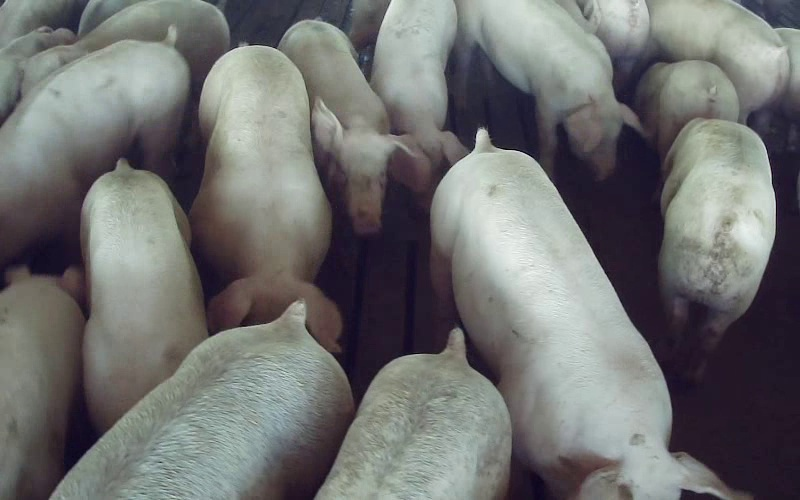pig: (432, 131, 741, 499), (51, 301, 353, 499), (191, 46, 340, 351), (0, 26, 189, 266), (81, 159, 207, 431), (315, 328, 511, 499), (454, 0, 639, 178), (278, 20, 430, 235), (659, 118, 775, 380), (0, 267, 84, 499), (644, 0, 788, 121), (371, 0, 467, 167), (635, 60, 738, 159)
